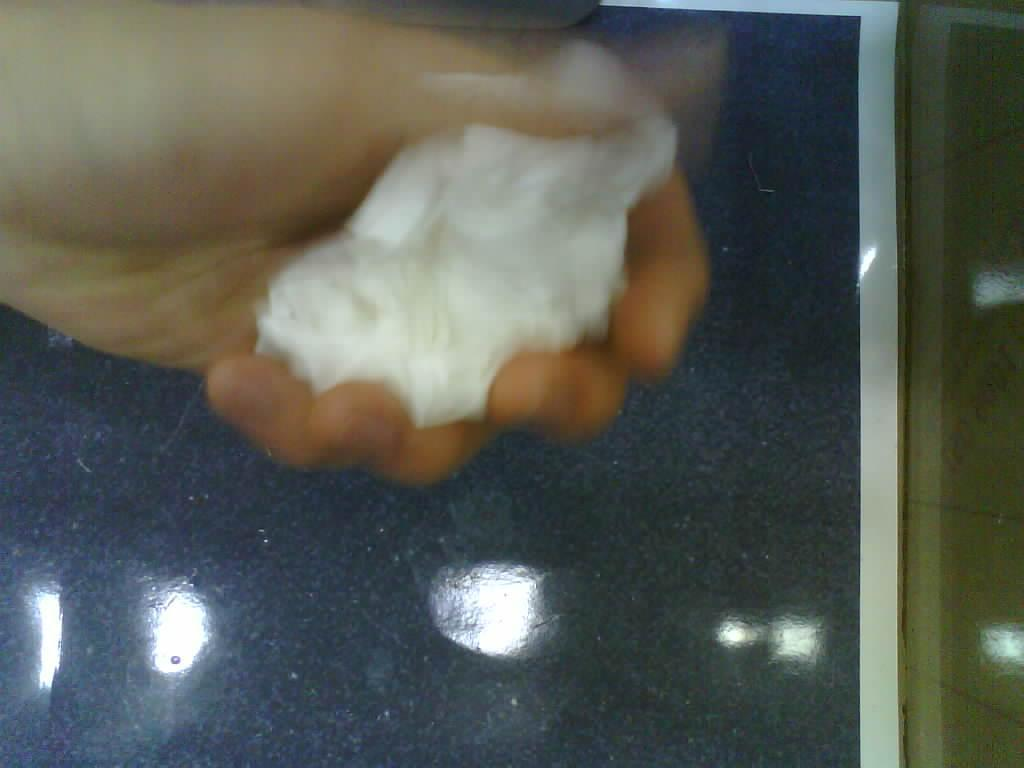paper: (256, 118, 676, 449)
